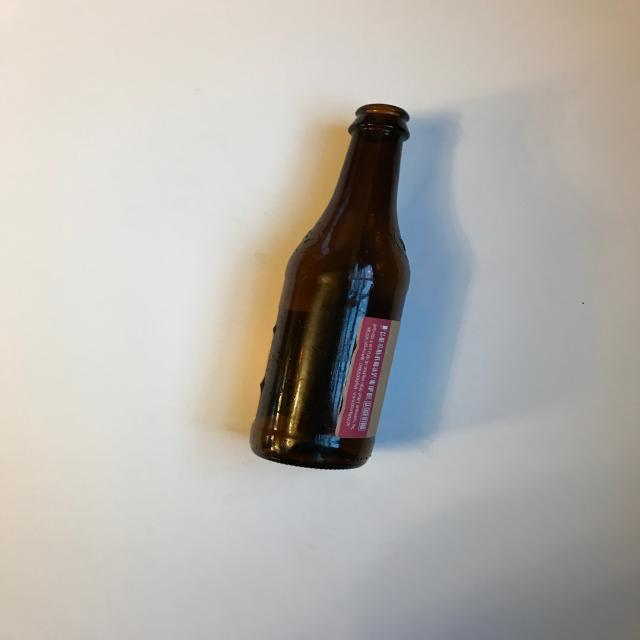Glass: (240, 96, 424, 476)
